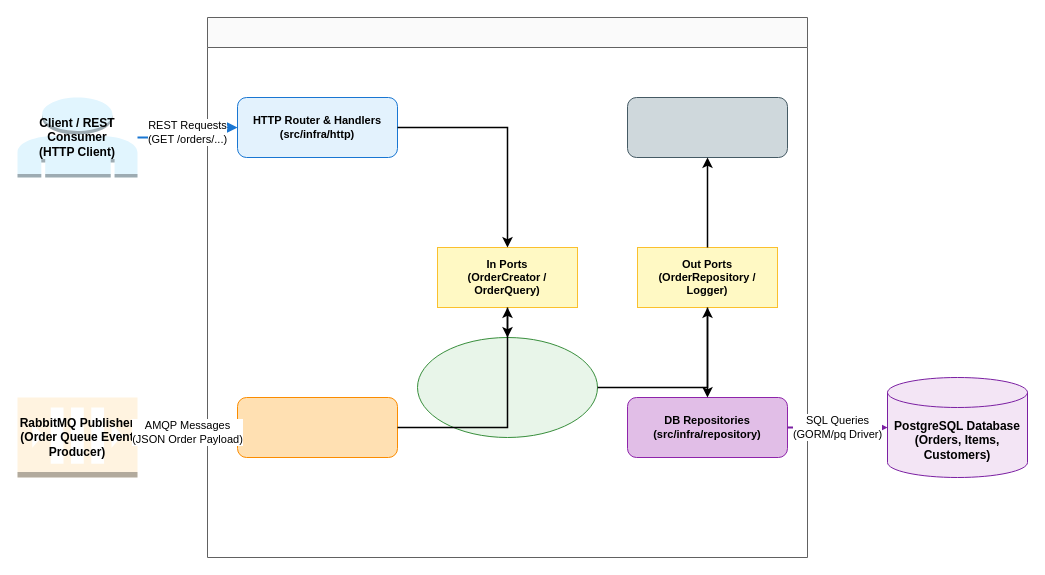
Some shapes in this 1045 by 575 pixel diagram are drawn without their labels. The shapes that lost their labels are listed below. From the top down, each one's box as (x1, y1, x2, y2) in pixels, then its label:
(626, 96, 788, 158): Logger Infra (src/infra/logging)
(206, 16, 808, 558): Go Application System (Hexagonal Architecture)
(416, 336, 598, 438): Order Service & Domain Model (src/application/services & src/domain)
(236, 396, 398, 458): RabbitMQ Consumer (src/infra/messaging/rabbitmq)
